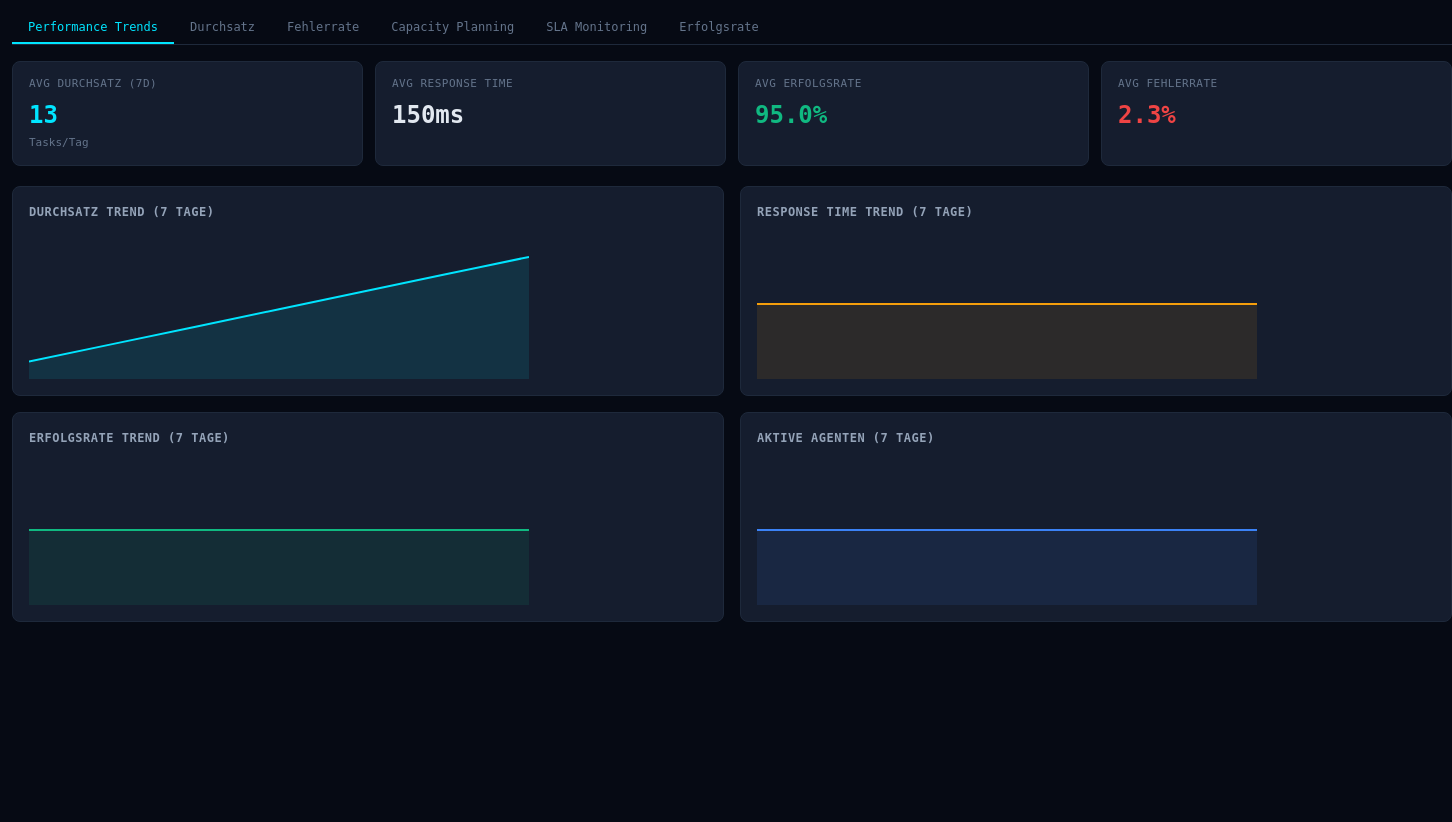
AnalyticsView › switches to errors tab
Expected: the text "Avg Durchsatz (7d)" is shown, [29,77,157,90]
Click the button "Fehlerrate": (323, 28) [271,12,375,44]
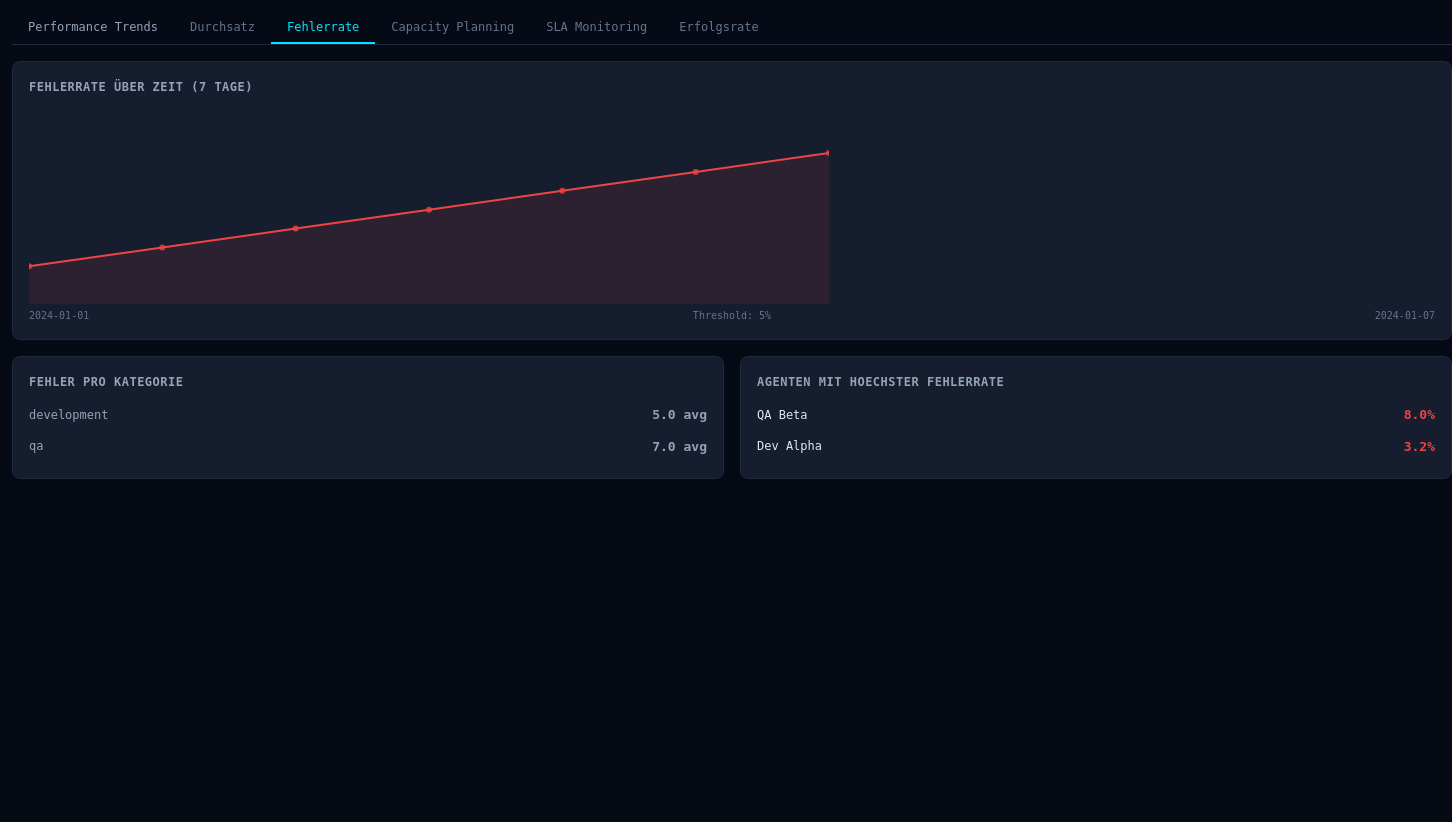
Result: the text "Fehlerrate über Zeit (7 Tage)" is shown at [29,80,253,94]
Result: the text "Fehler pro Kategorie" is shown at [29,375,184,389]
Result: the text "Agenten mit hoechster Fehlerrate" is shown at [757,375,1004,389]
